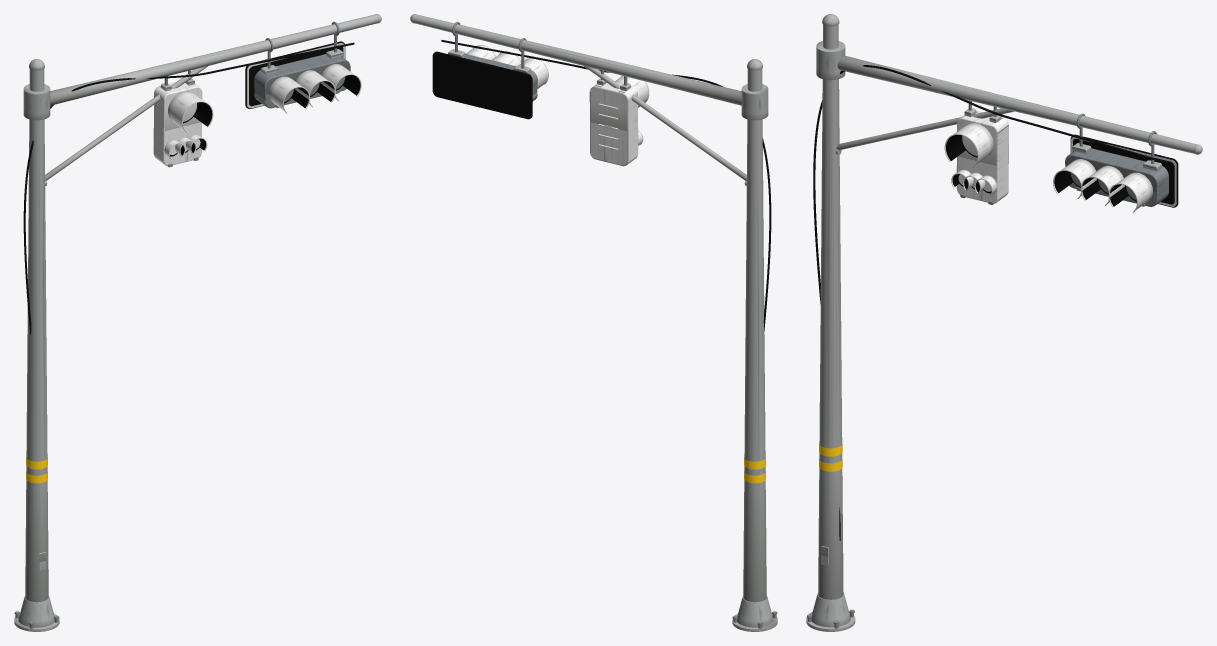
The picture shows the model from 3 angles, left to right: view 1: azimuth 30°, elevation 25°; view 2: azimuth 150°, elevation 25°; view 3: azimuth 330°, elevation 25°; orthographic projection. The views are drawn at different scales.
Parts seen in each view (by area): view 1: jp-tram-with-vehicle, opt_backplate_on; view 2: jp-tram-with-vehicle, opt_backplate_on; view 3: jp-tram-with-vehicle, opt_backplate_on.
Part boxes in pixels (x1,y1,x2,y2): jp-tram-with-vehicle: (14,14,381,631); opt_backplate_on: (245,41,345,108); jp-tram-with-vehicle: (410,14,777,631); opt_backplate_on: (432,51,532,119); jp-tram-with-vehicle: (806,14,1202,631); opt_backplate_on: (1070,134,1178,207).
Bounding box in the file's own units: 4.39 × 6.48 × 0.6577.
26 materials, 4 textured.
